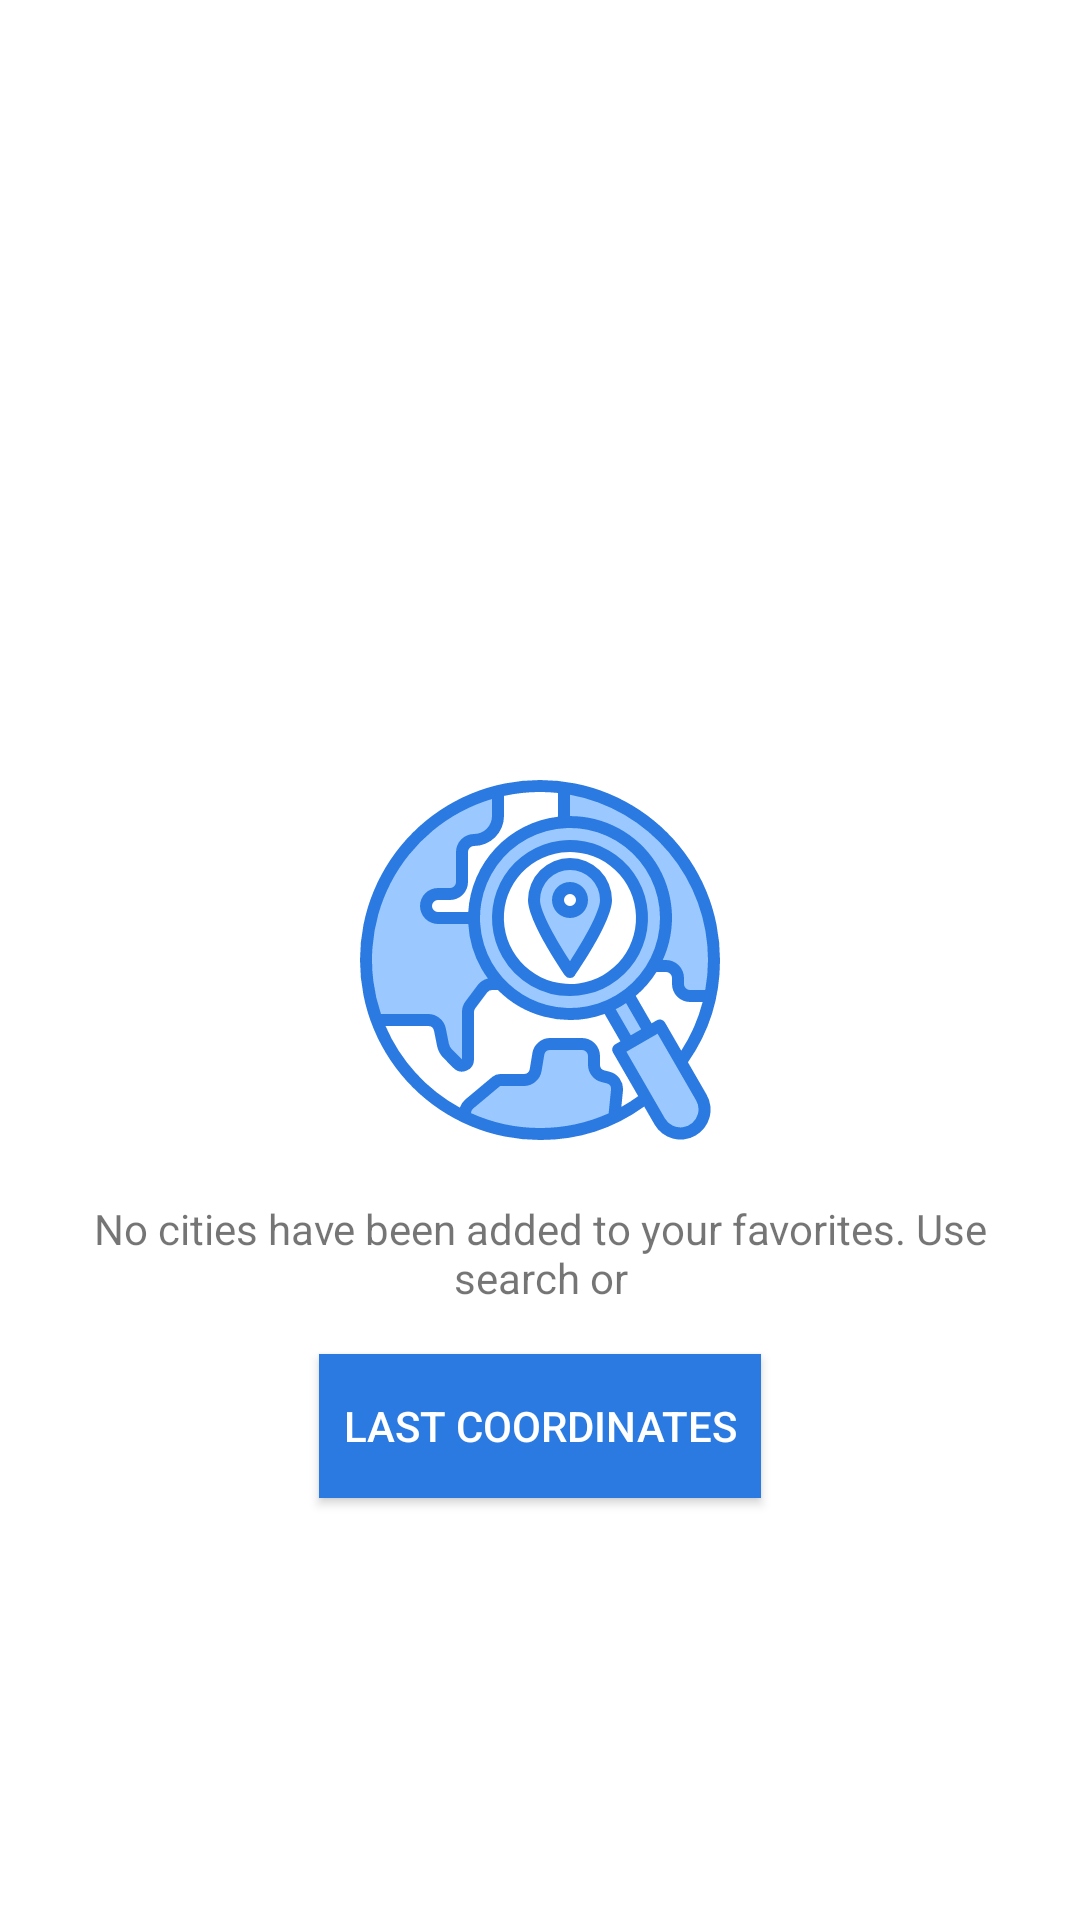

Icon bounding boxes for this 1080w x 1920h phone screenshot, format (x1, y1, x2, y2):
search city: (360, 780, 720, 1140)
